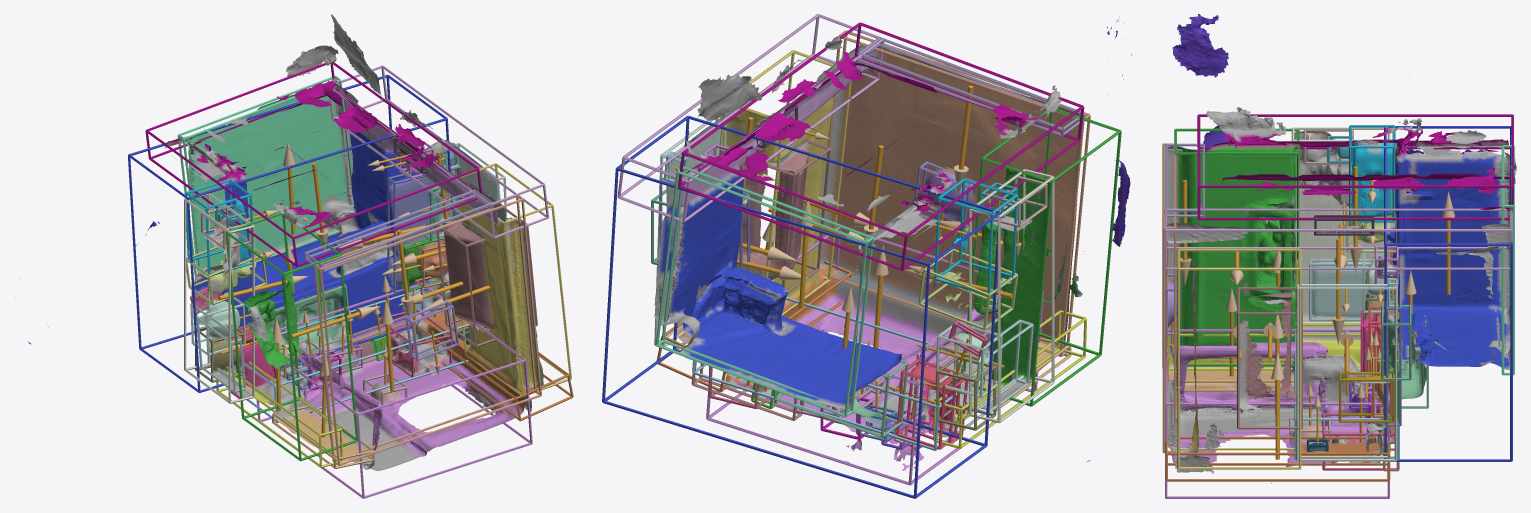
File: scene_00057_00-obb.compressed.gltf
The picture shows the model from 3 angles, left to right: view 1: azimuth 30°, elevation 25°; view 2: azimuth 150°, elevation 25°; view 3: azimuth 270°, elevation 25°; orthographic projection. The views are drawn at different scales.
Bounding box in the file's own units: 3.67 × 2.92 × 2.55.
